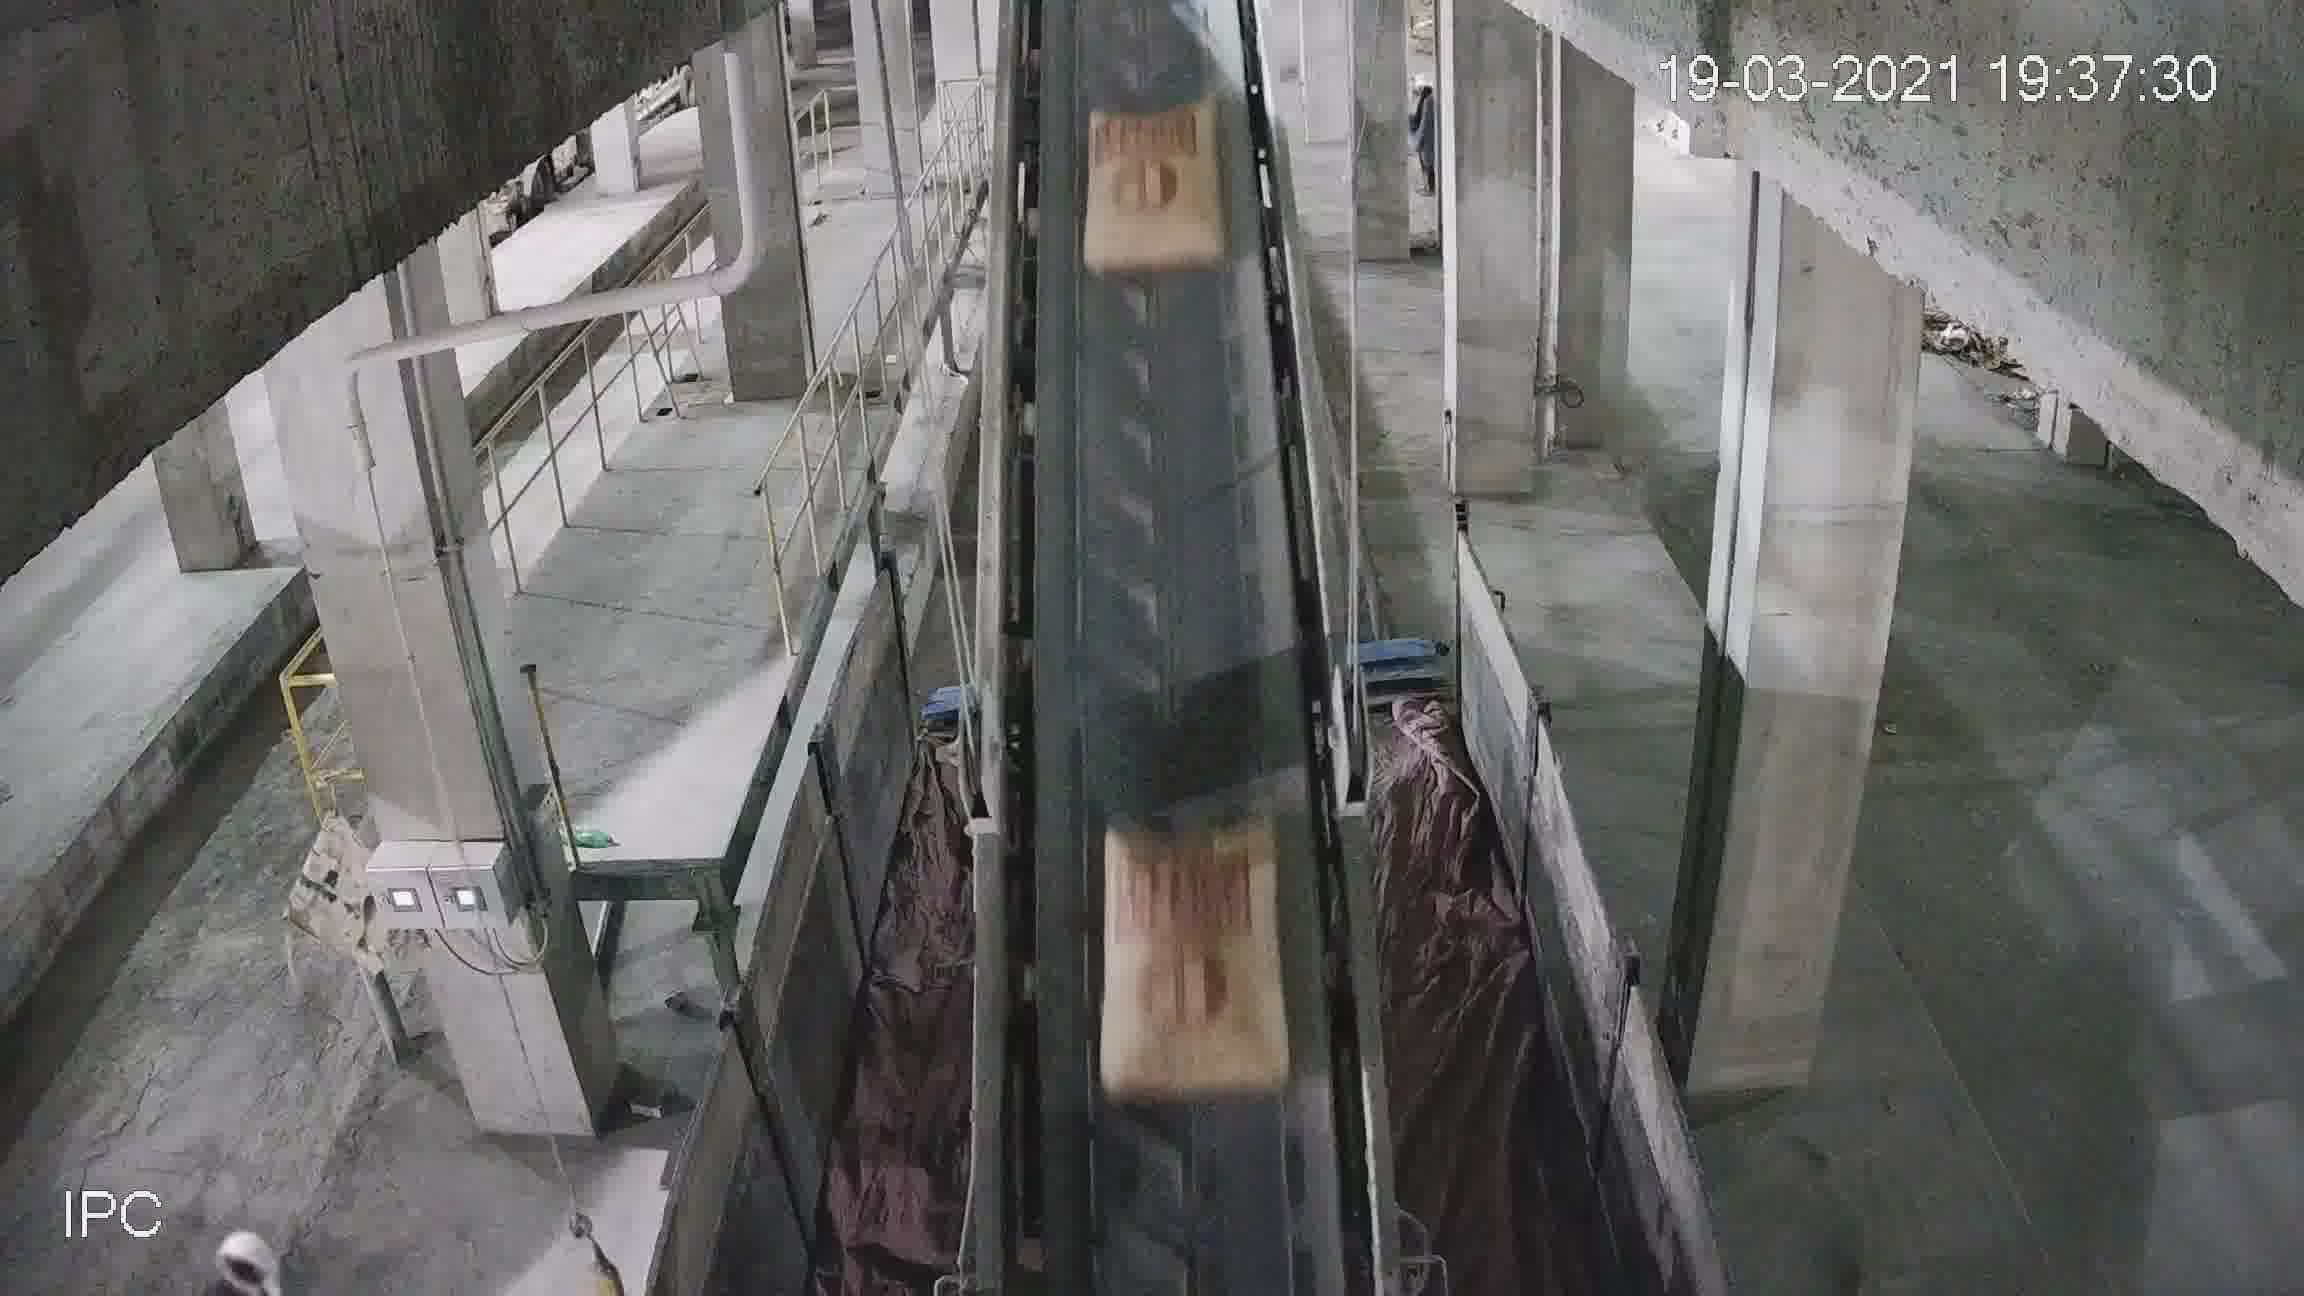bag: (1097, 828, 1285, 1103), (1082, 114, 1222, 272)
belt: (984, 17, 1366, 1158)
